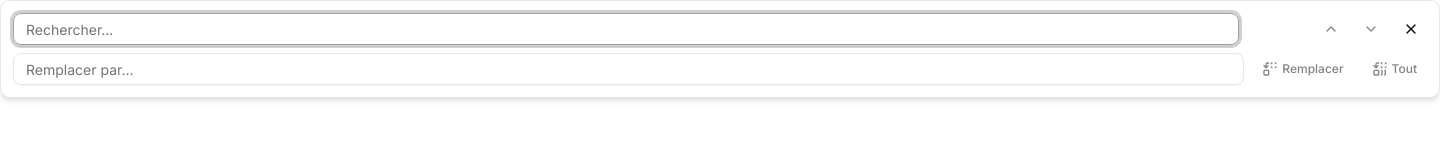
Test case: SearchReplaceBar › should navigate to next match when next button clicked
The width and height of the screenshot is (1440, 160).
Type "hello" into the field with placeholder "Rechercher..." at (626, 29), box [13,13,1239,45]
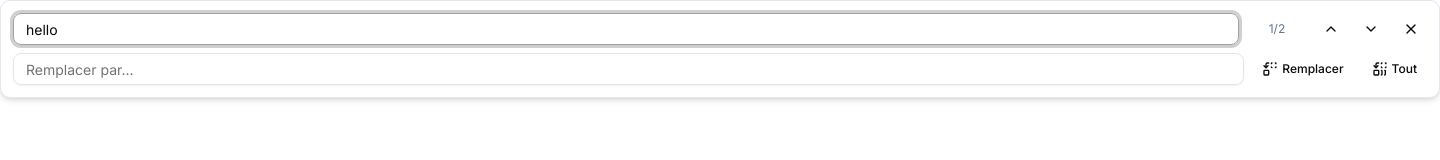
Check: the text "1/2" is shown, box [1269,21,1285,36]
Click the button titled "Suivant" at (1371, 29), box [1355,13,1387,45]
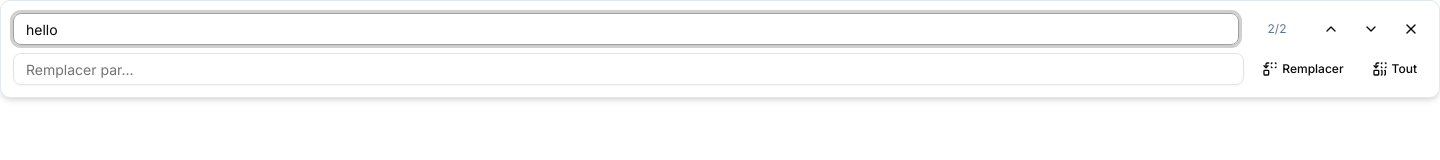
Check: the text "2/2" is shown, box [1268,21,1286,36]
